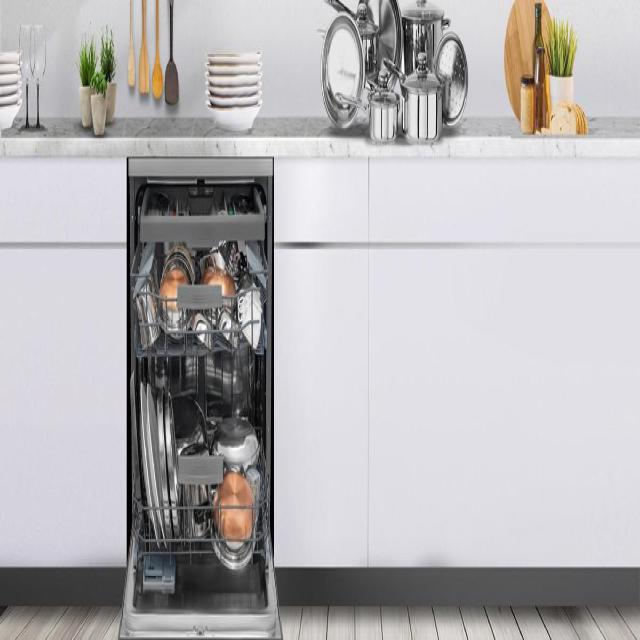dishwasher: (121, 156, 277, 640)
